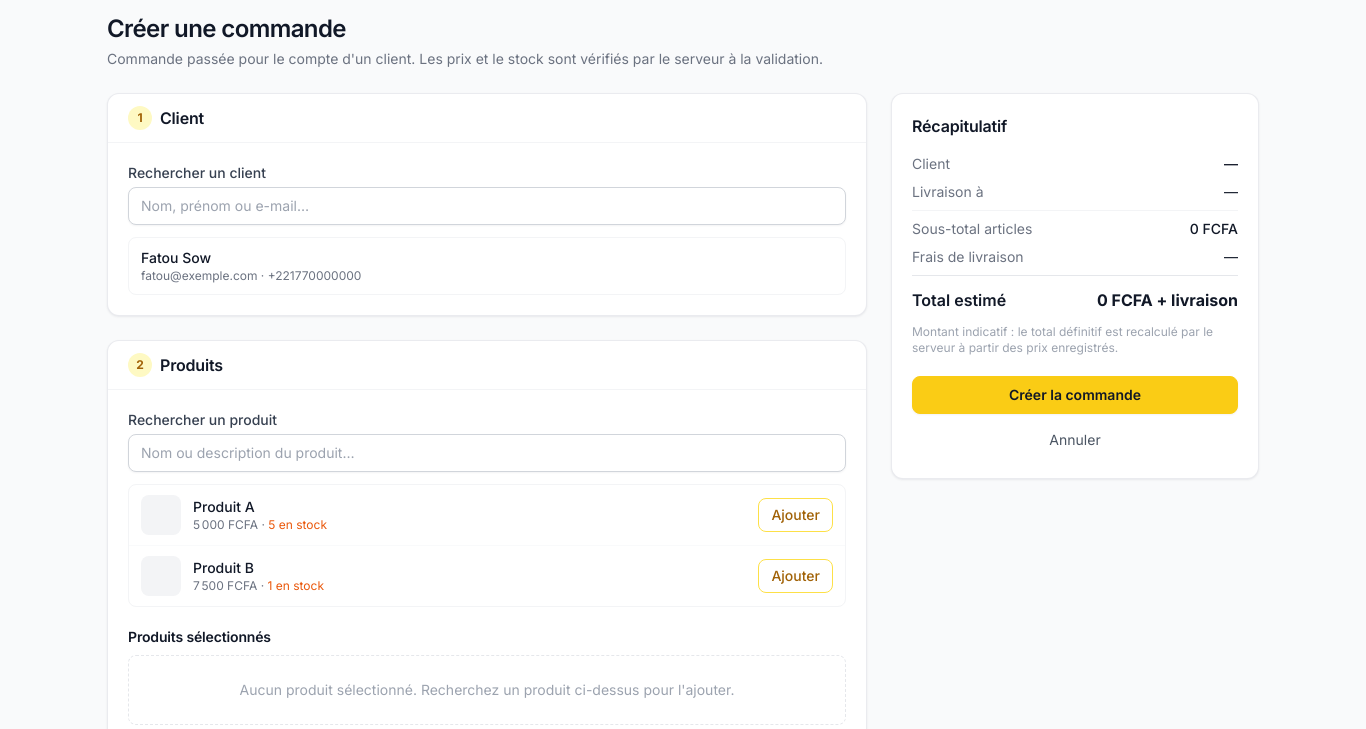
Test: OrderCreatePage — création de commande admin › soumission vide : messages clairs, aucun appel API
The image size is (1366, 729).
Click the button "Créer la commande".
click(1075, 395)  # box [912,376,1238,414]
(page scrolled)
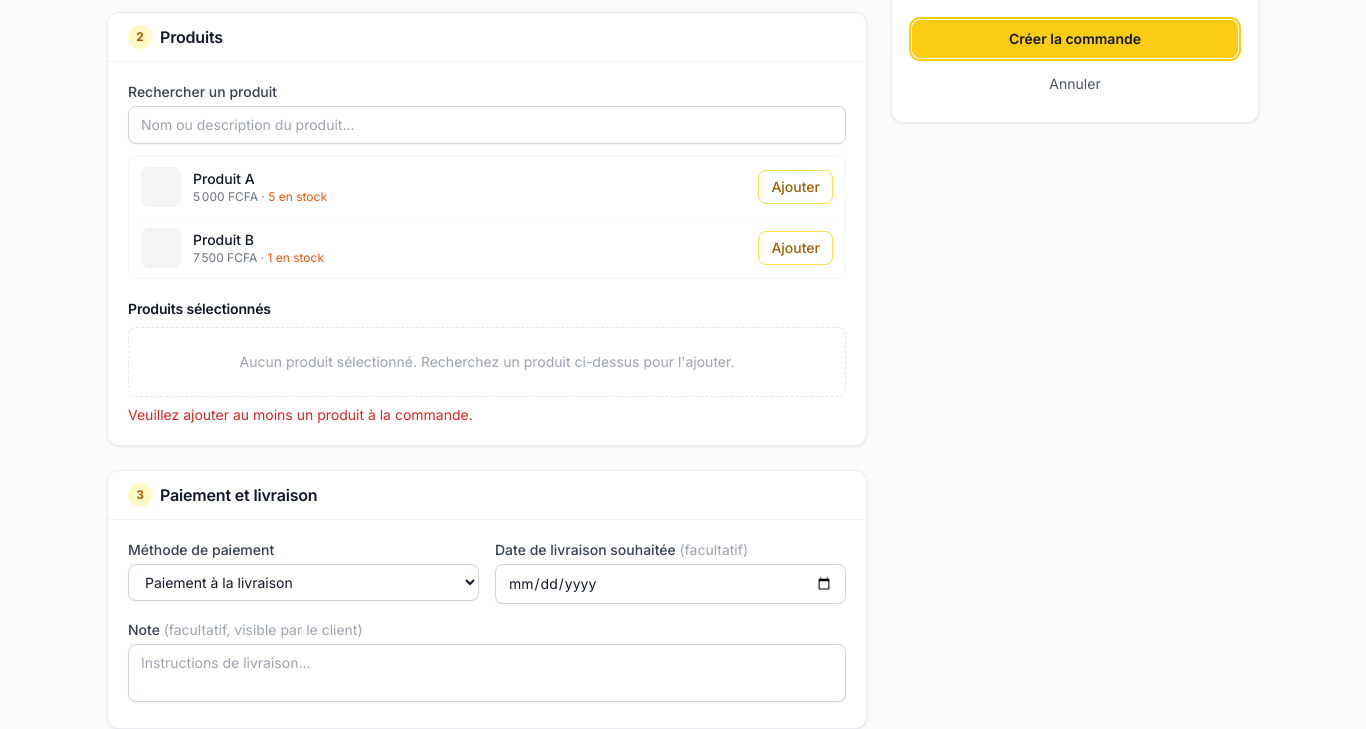
Now the text "Veuillez ajouter au moins un produit à la commande." is shown, box [128,406,473,423]
